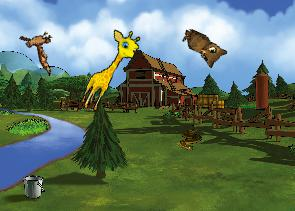eagle: (10, 20, 69, 76)
giraffe: (77, 24, 144, 118)
owl: (175, 27, 229, 71)
